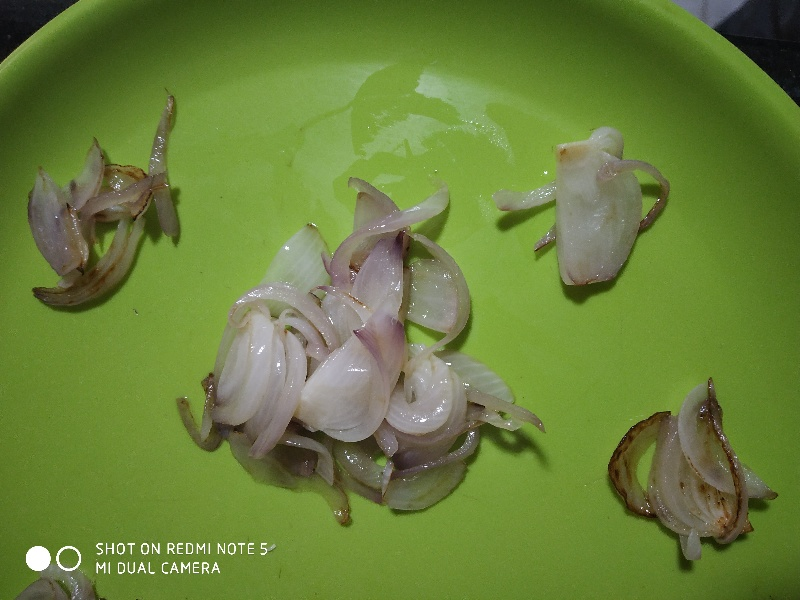onion_fried: (607, 381, 672, 552)
onion_golden: (23, 134, 183, 315)
